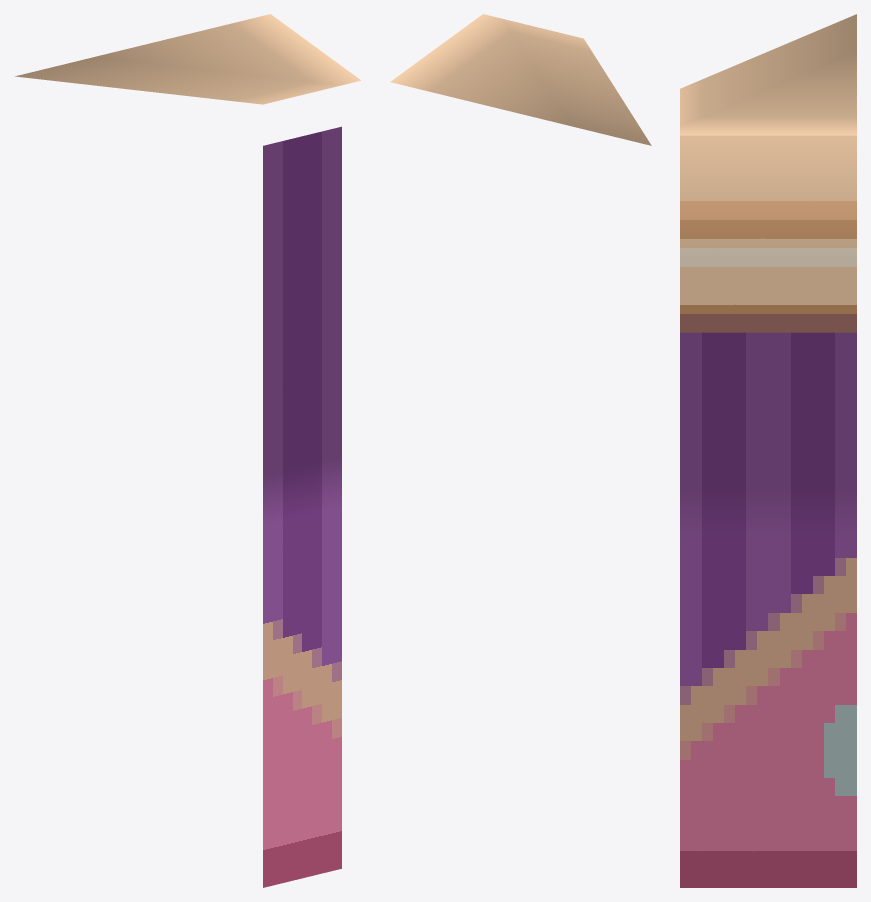
3 views of the same model, side by side, from view 1: azimuth 30°, elevation 25°; view 2: azimuth 150°, elevation 25°; view 3: azimuth 270°, elevation 25° (orthographic). The views are drawn at different scales.
Size of the model in its own units: 1.62 by 4.75 by 1.
3 materials, 3 textured.
